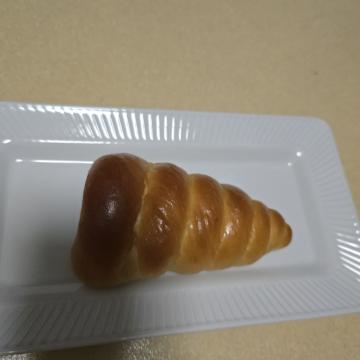cream horn: (135, 55, 322, 301)
